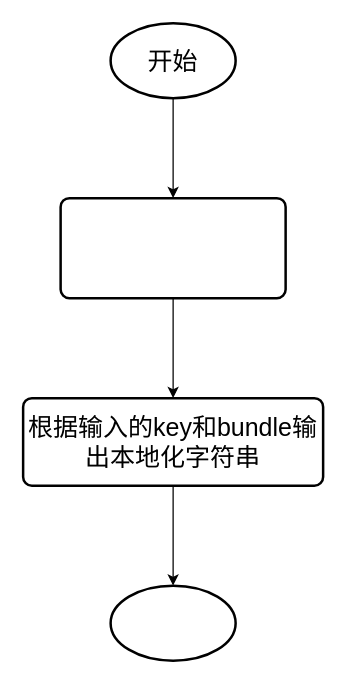
Some shapes in this 345 by 683 pixel diagram are drawn without their labels. The shapes that lost their labels are listed below. From the top down, each one's centre as x and y in pixels, then its label:
At (x=172, y=247): "输入bundle，默认是main bundle".
At (x=172, y=622): "结束".
